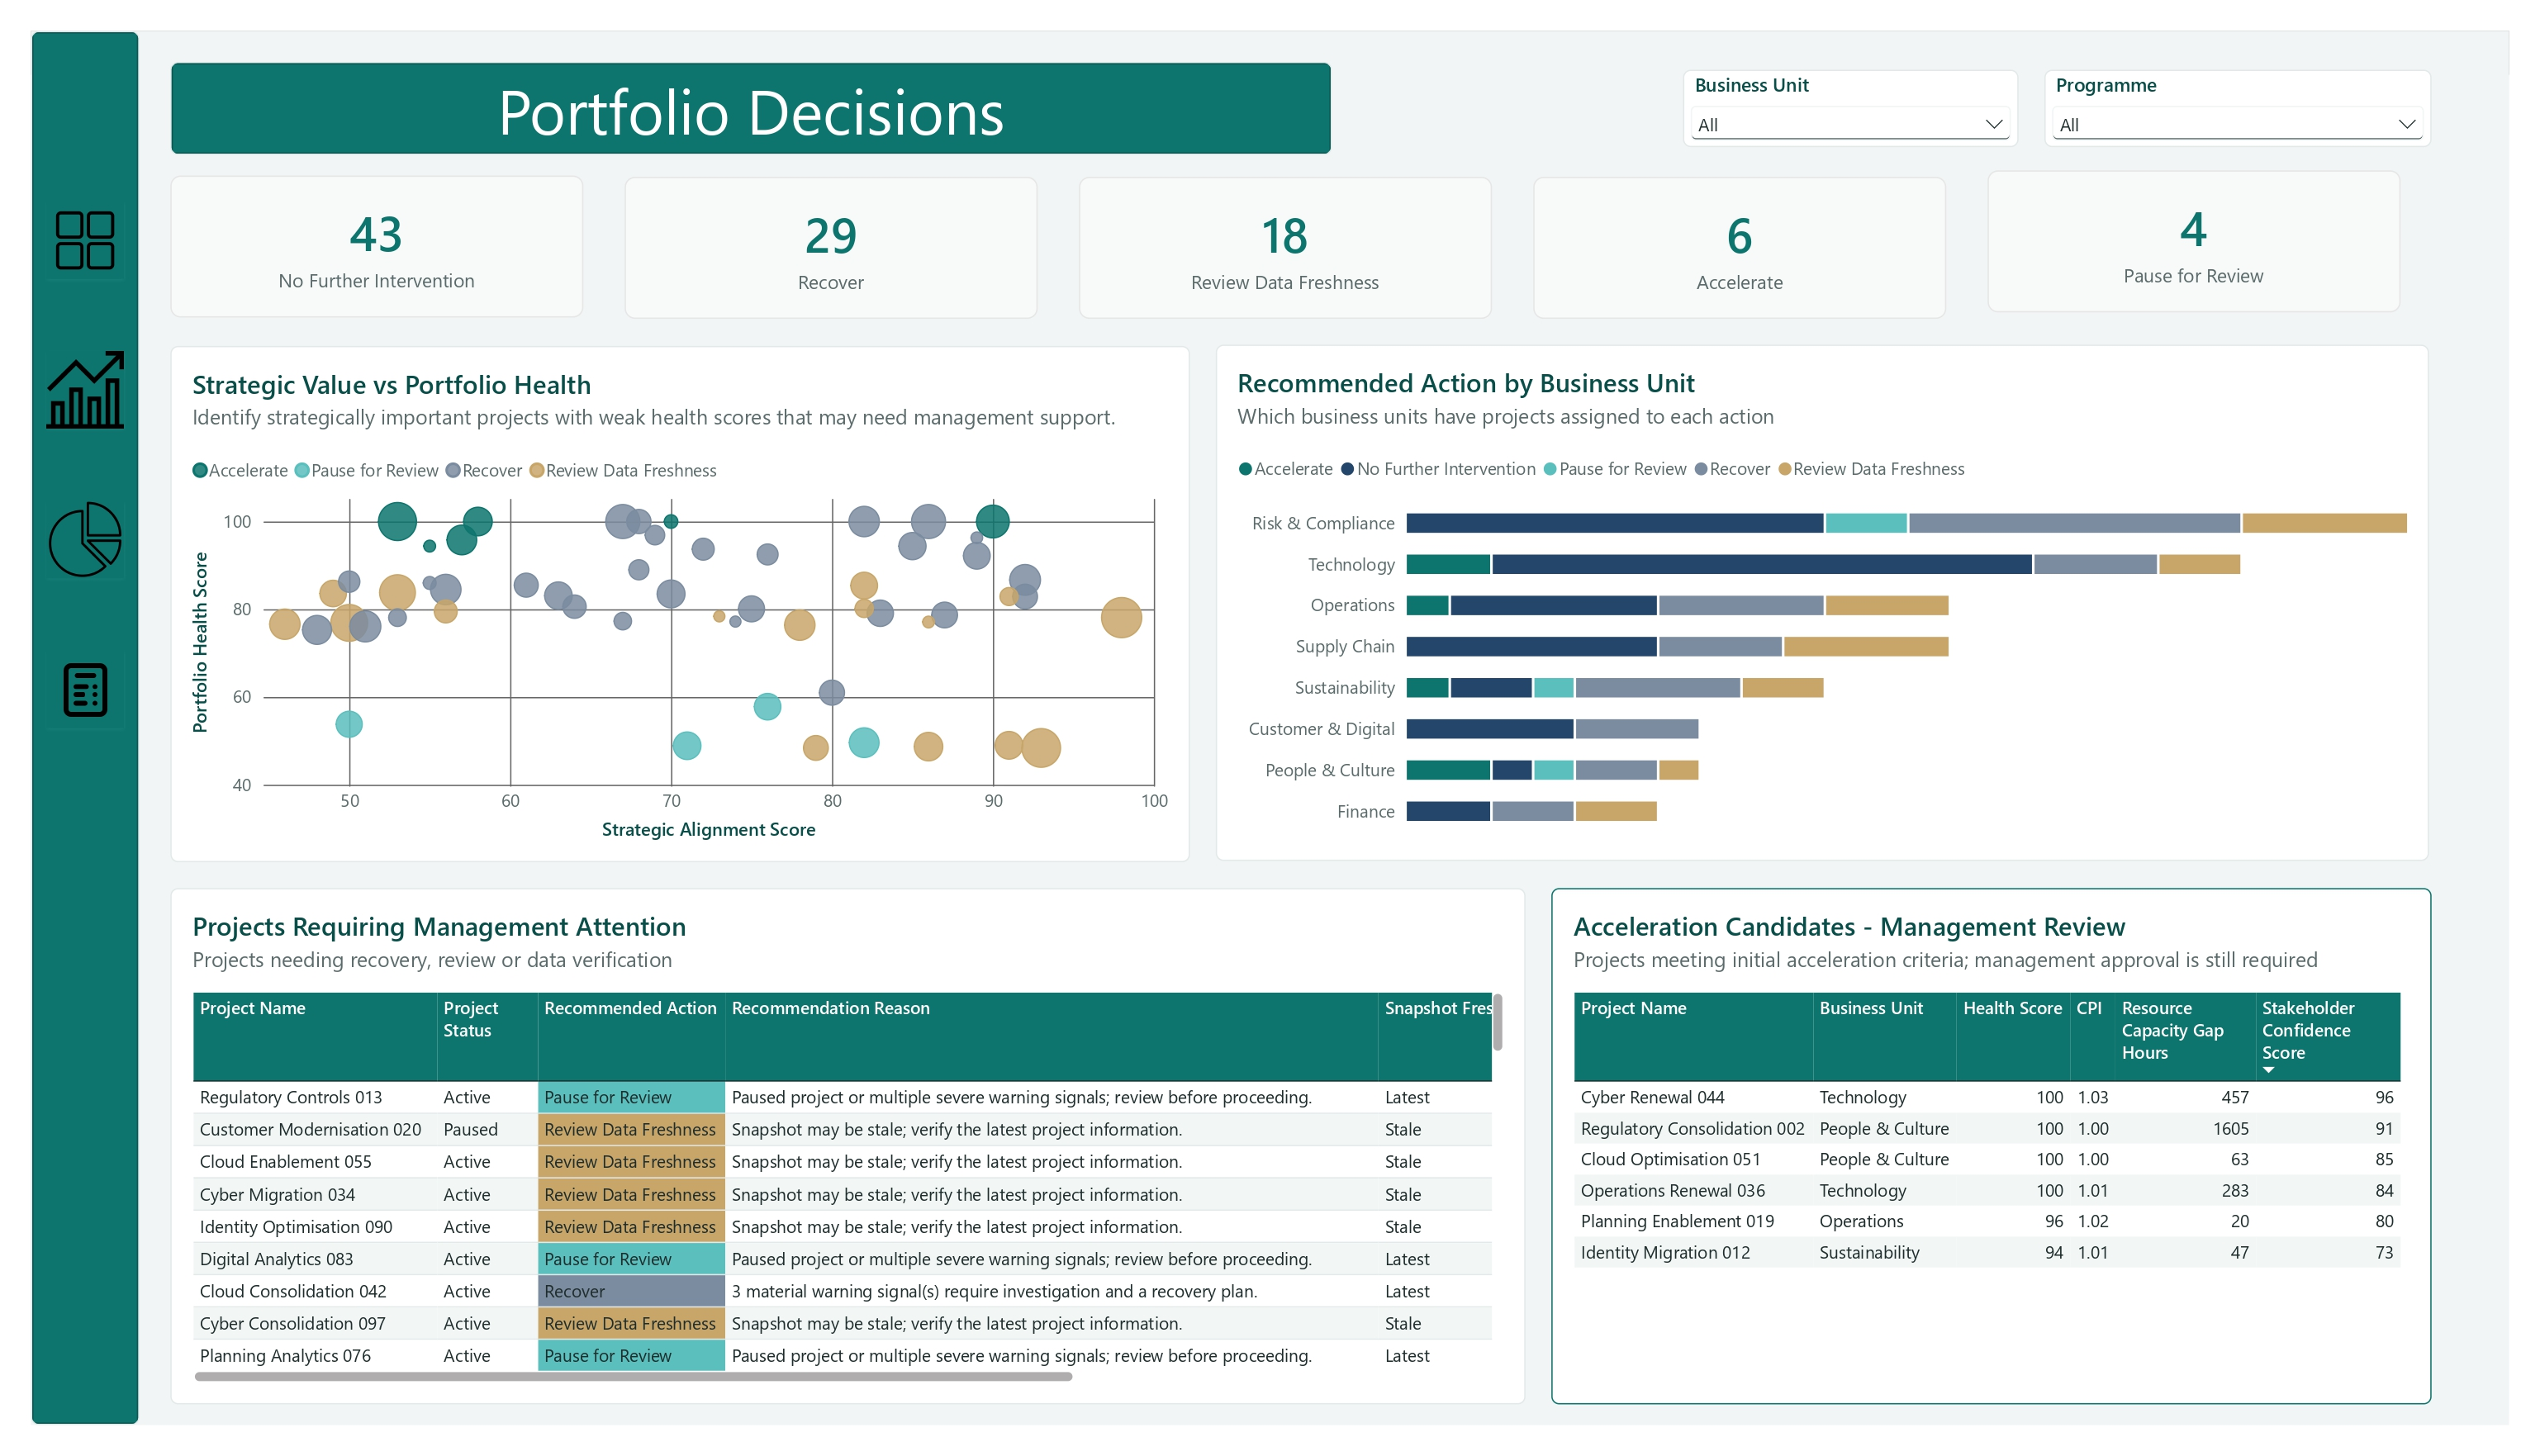

This screenshot's page, from the dashboard's own definition file:
{"tool":"powerbi","page":{"name":"Portfolio Decisions","canvas":[1920,1080],"ordinal":3},"visuals":[{"type":"shape","box":[0,0,84,1080],"z":0},{"type":"shape","box":[108,24,900,72],"z":1000},{"type":"card","fields":{"Values":["Measures (2).Total Projects"]},"box":[460,113.5,320,110],"z":2000},{"type":"card","fields":{"Values":["Measures (2).Total Projects"]},"box":[812,113.5,320,110],"z":3000},{"type":"card","fields":{"Values":["Measures (2).Total Projects"]},"box":[1516,107.6,320,110],"z":4000},{"type":"scatterChart","title":"Strategic Value vs Portfolio Health","fields":{"Series":["CurrentProjectSnapshot.Recommended Action"],"Size":["Measures (2).Total Baseline Budget"],"X":["DimProjectTable.StrategicAlignmentScore"],"Y":["CurrentProjectSnapshot.PortfolioHealthScore"]},"box":[108,244,790,400],"z":5000},{"type":"barChart","title":"Recommended Action by Business Unit","fields":{"Category":["DimBusinessUnitTable.BusinessUnitName"],"Series":["CurrentProjectSnapshot.Recommended Action"],"Y":["Measures (2).Total Projects"]},"box":[918,243.2,940,400],"z":6000},{"type":"slicer","fields":{"Values":["DimProgrammeTable.ProgrammeName"]},"box":[1560,30,300,60],"z":7000},{"type":"slicer","fields":{"Values":["DimBusinessUnitTable.BusinessUnitName"]},"box":[1280,30,260,60],"z":8000},{"type":"tableEx","title":"Projects Requiring Management Attention","fields":{"Values":["DimProjectTable.ProjectName","CurrentProjectSnapshot.ProjectStatus","CurrentProjectSnapshot.Recommended Action","CurrentProjectSnapshot.Recommendation Reason","CurrentProjectSnapshot.Snapshot Freshness","CurrentProjectSnapshot.PortfolioHealthScore","CurrentProjectSnapshot.ForecastDelayDays","CurrentProjectSnapshot.CostPerformanceIndex","CurrentProjectSnapshot.RiskExposureScore"]},"box":[108,664,1050,400],"z":9000},{"type":"tableEx","title":"Acceleration Candidates - Management Review","fields":{"Values":["DimProjectTable.ProjectName","DimBusinessUnitTable.BusinessUnitName","CurrentProjectSnapshot.PortfolioHealthScore","CurrentProjectSnapshot.CostPerformanceIndex","CurrentProjectSnapshot.ResourceCapacityGapHours","CurrentProjectSnapshot.StakeholderConfidenceScore"]},"box":[1178,664,682,400],"z":10000},{"type":"card","fields":{"Values":["Measures (2).Total Projects"]},"box":[108,112,320,110],"z":11000},{"type":"card","fields":{"Values":["Measures (2).Total Projects"]},"box":[1164,113.5,320,110],"z":12000},{"type":"actionButton","box":[12,364,60,60],"z":12001},{"type":"actionButton","box":[12,248,60,60],"z":12002},{"type":"actionButton","box":[12,132,60,60],"z":12003},{"type":"actionButton","box":[12,480,60,60],"z":12004}]}

Visuals, with their boxes on the page's 1920x1080 design canvas (x1, y1, x2, y2). These are canvas units, not pixel positions in the 2540x1456 screenshot, which may show the page scaled, cropped or inside an application window:
shape: pyautogui.locateOnScreen(0, 0, 84, 1080)
shape: pyautogui.locateOnScreen(108, 24, 1008, 96)
card - Measures (2).Total Projects: pyautogui.locateOnScreen(460, 114, 780, 224)
card - Measures (2).Total Projects: pyautogui.locateOnScreen(812, 114, 1132, 224)
card - Measures (2).Total Projects: pyautogui.locateOnScreen(1516, 108, 1836, 218)
"Strategic Value vs Portfolio Health" scatterChart: pyautogui.locateOnScreen(108, 244, 898, 644)
"Recommended Action by Business Unit" barChart: pyautogui.locateOnScreen(918, 243, 1858, 643)
slicer - DimProgrammeTable.ProgrammeName: pyautogui.locateOnScreen(1560, 30, 1860, 90)
slicer - DimBusinessUnitTable.BusinessUnitName: pyautogui.locateOnScreen(1280, 30, 1540, 90)
"Projects Requiring Management Attention" tableEx: pyautogui.locateOnScreen(108, 664, 1158, 1064)
"Acceleration Candidates - Management Review" tableEx: pyautogui.locateOnScreen(1178, 664, 1860, 1064)
card - Measures (2).Total Projects: pyautogui.locateOnScreen(108, 112, 428, 222)
card - Measures (2).Total Projects: pyautogui.locateOnScreen(1164, 114, 1484, 224)
actionButton: pyautogui.locateOnScreen(12, 364, 72, 424)
actionButton: pyautogui.locateOnScreen(12, 248, 72, 308)
actionButton: pyautogui.locateOnScreen(12, 132, 72, 192)
actionButton: pyautogui.locateOnScreen(12, 480, 72, 540)
